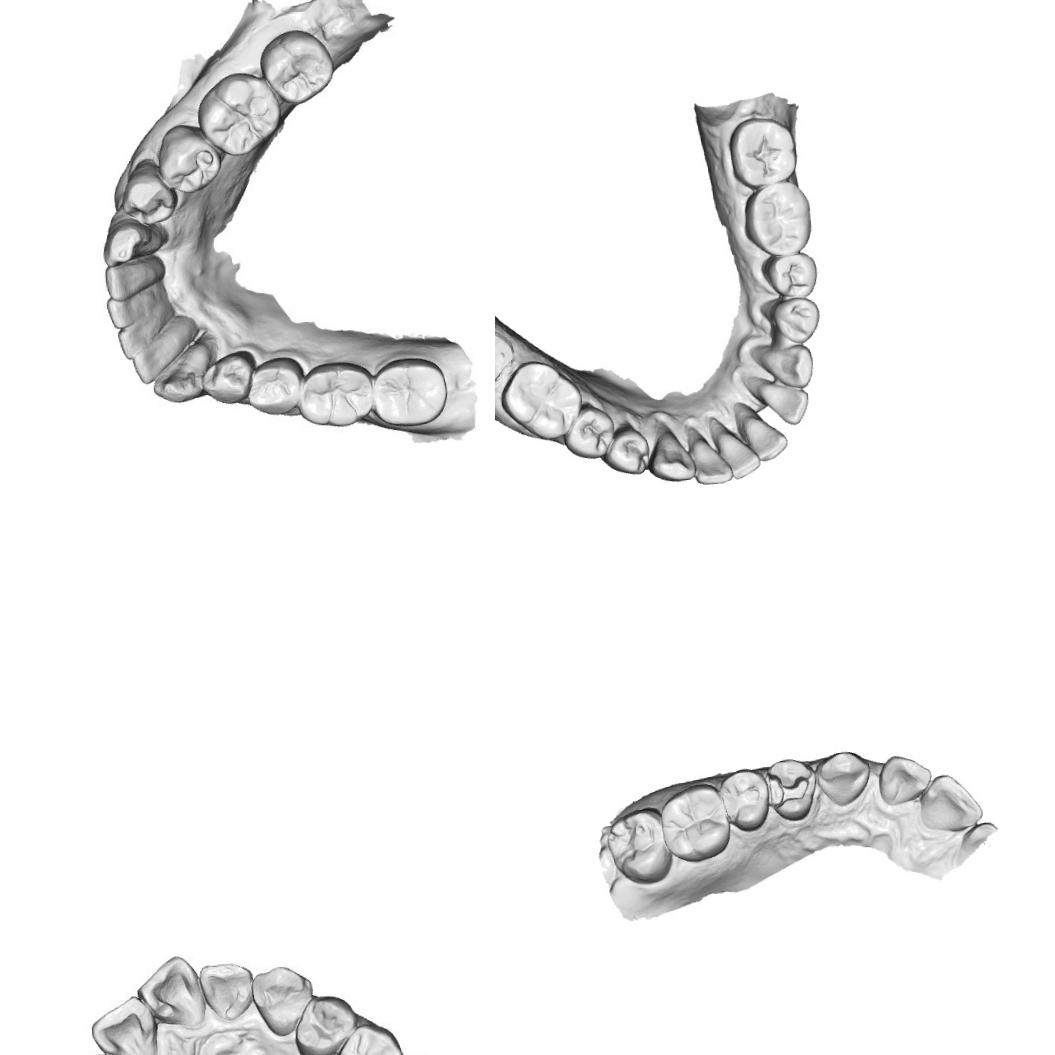canine: (251, 963, 314, 1037), (150, 337, 220, 403), (812, 748, 872, 808), (748, 339, 816, 390), (101, 216, 170, 266), (643, 424, 698, 484)
crown: (495, 318, 520, 395)
incisor: (136, 955, 201, 1023), (916, 770, 984, 834), (87, 997, 160, 1055), (743, 370, 812, 429), (129, 325, 197, 384), (119, 309, 190, 357), (876, 752, 934, 806), (685, 423, 733, 486), (106, 281, 174, 322), (204, 962, 252, 1019), (715, 424, 761, 480), (741, 411, 790, 463), (106, 256, 167, 296)
inlay: (765, 767, 812, 812)
molar: (497, 356, 585, 443), (198, 70, 280, 152), (656, 780, 733, 864), (740, 178, 814, 258), (602, 804, 674, 886), (726, 114, 798, 191), (298, 358, 374, 430), (374, 354, 446, 424), (264, 32, 330, 98)
premolar: (156, 119, 218, 191), (120, 160, 180, 230), (717, 766, 772, 834), (560, 398, 618, 461), (249, 358, 305, 420), (757, 294, 821, 346), (759, 249, 821, 302), (597, 422, 654, 478), (299, 996, 354, 1051), (204, 351, 252, 402), (337, 1026, 395, 1055)
